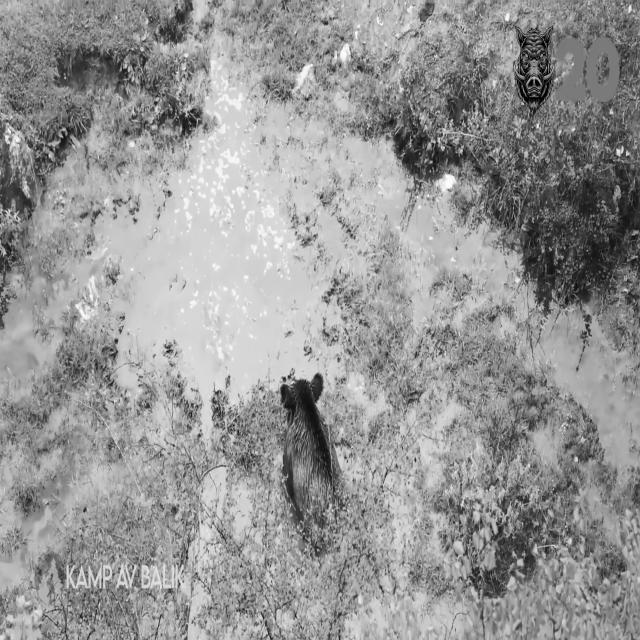boar: (280, 373, 342, 523)
